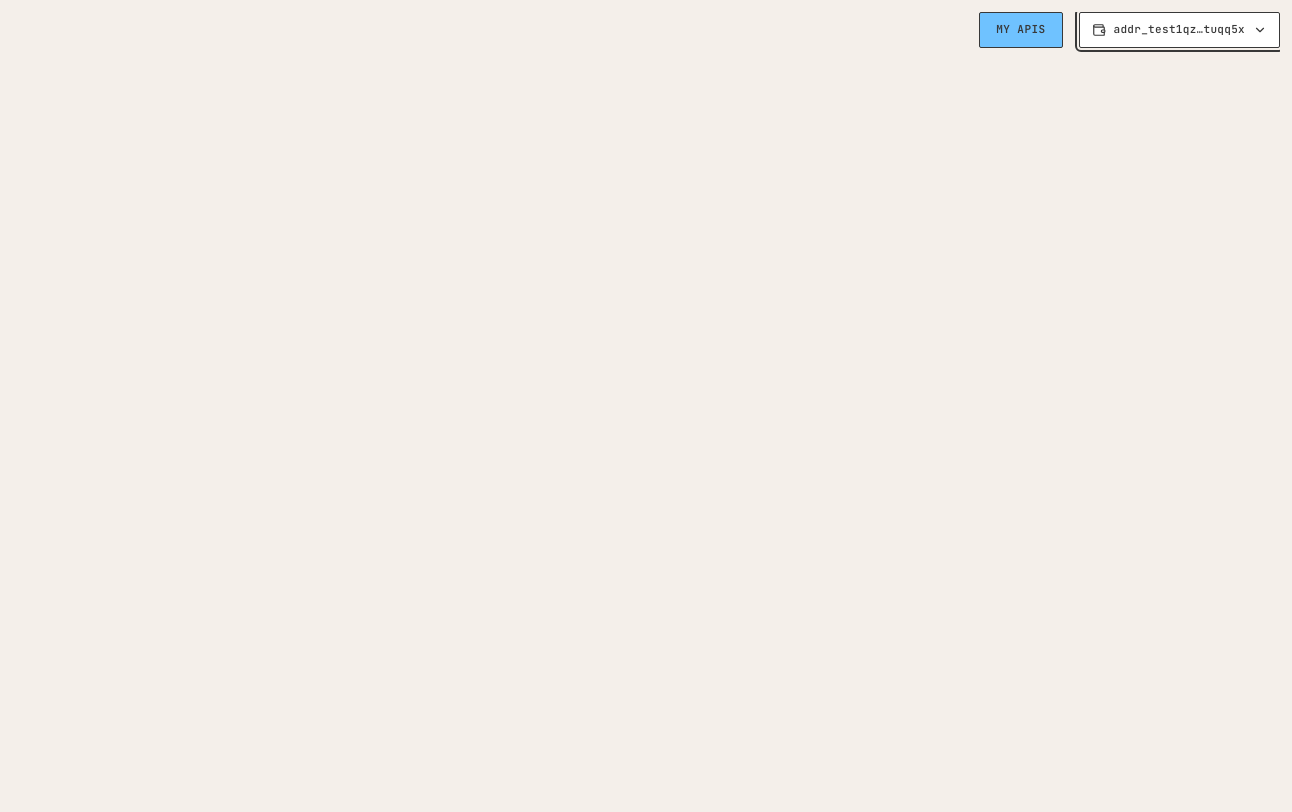
Test: account menu › opens with ArrowDown and closes on a click outside
The image size is (1292, 812).
Expected: the link "My APIs" is shown, 979,12 -> 1062,48
Press Arrowdown
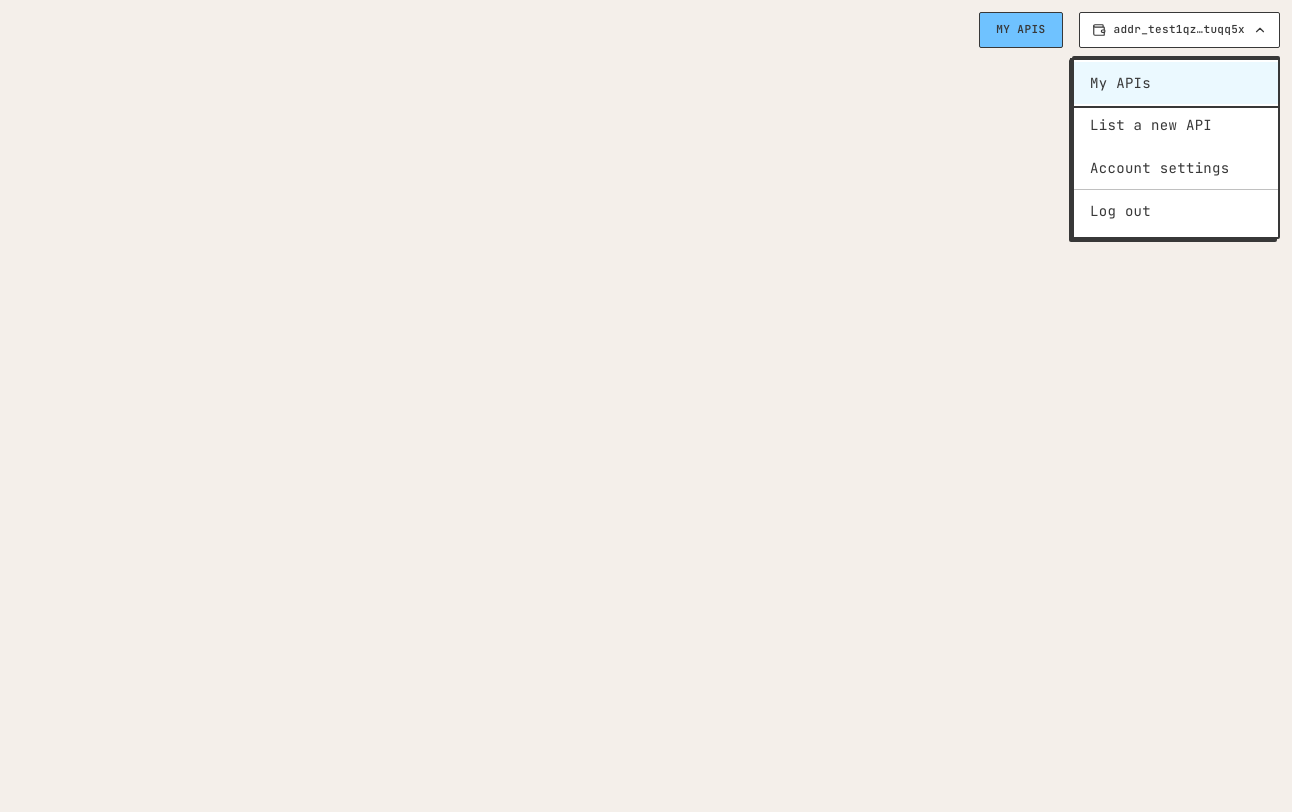
Click the element that starts with "My APIs" at (640, 412), box 0,12 -> 1280,811
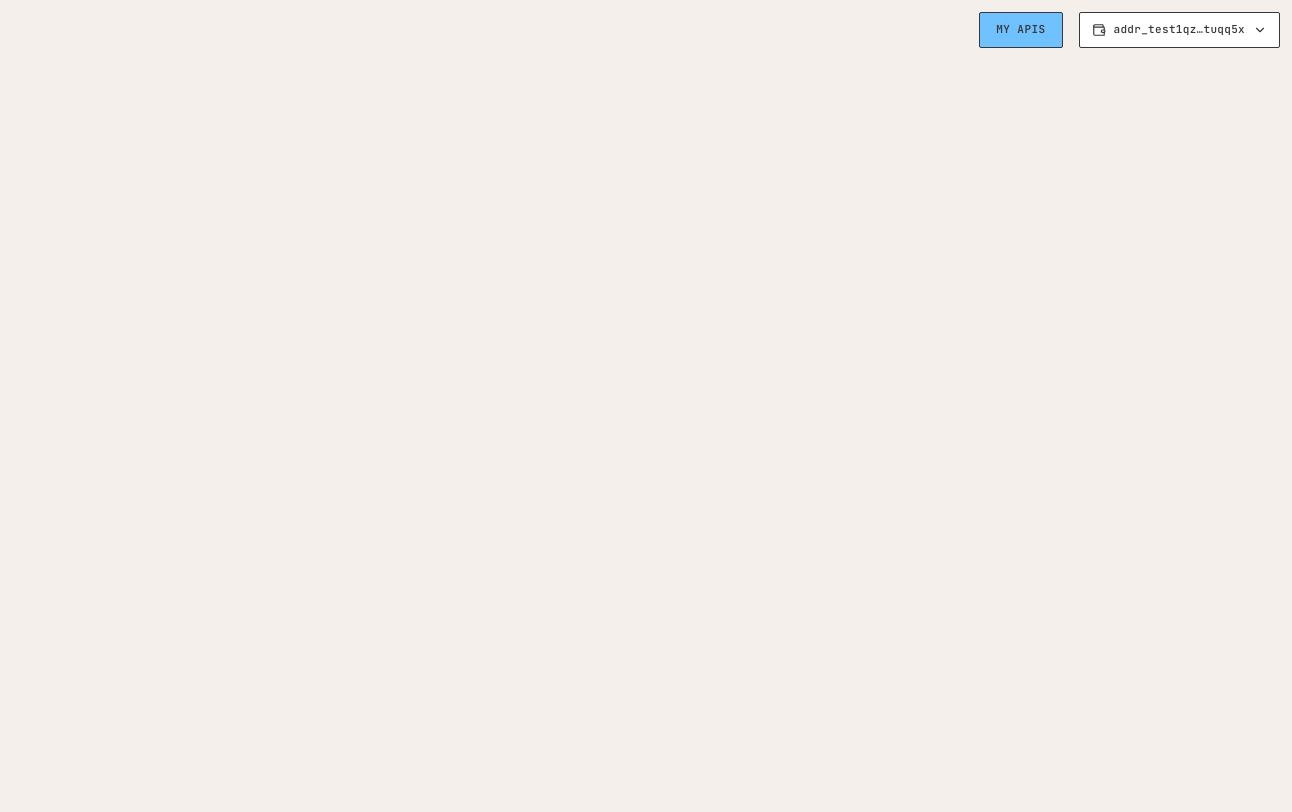
Expected: the menu is gone
